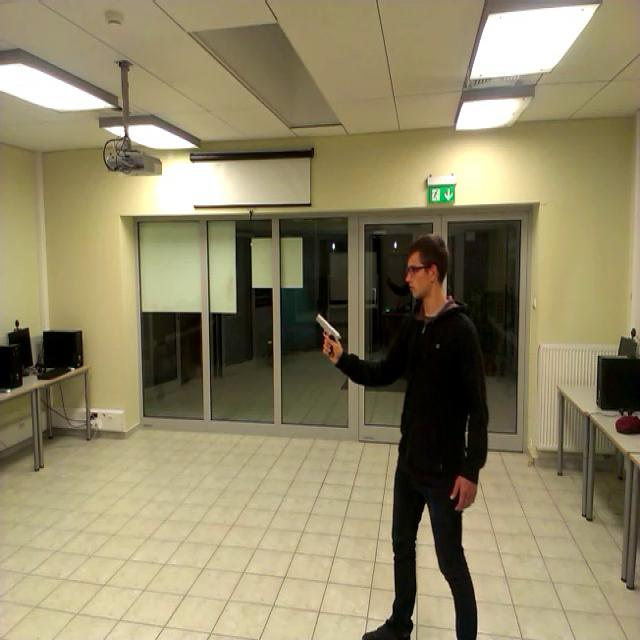handgun: (312, 299, 344, 381)
